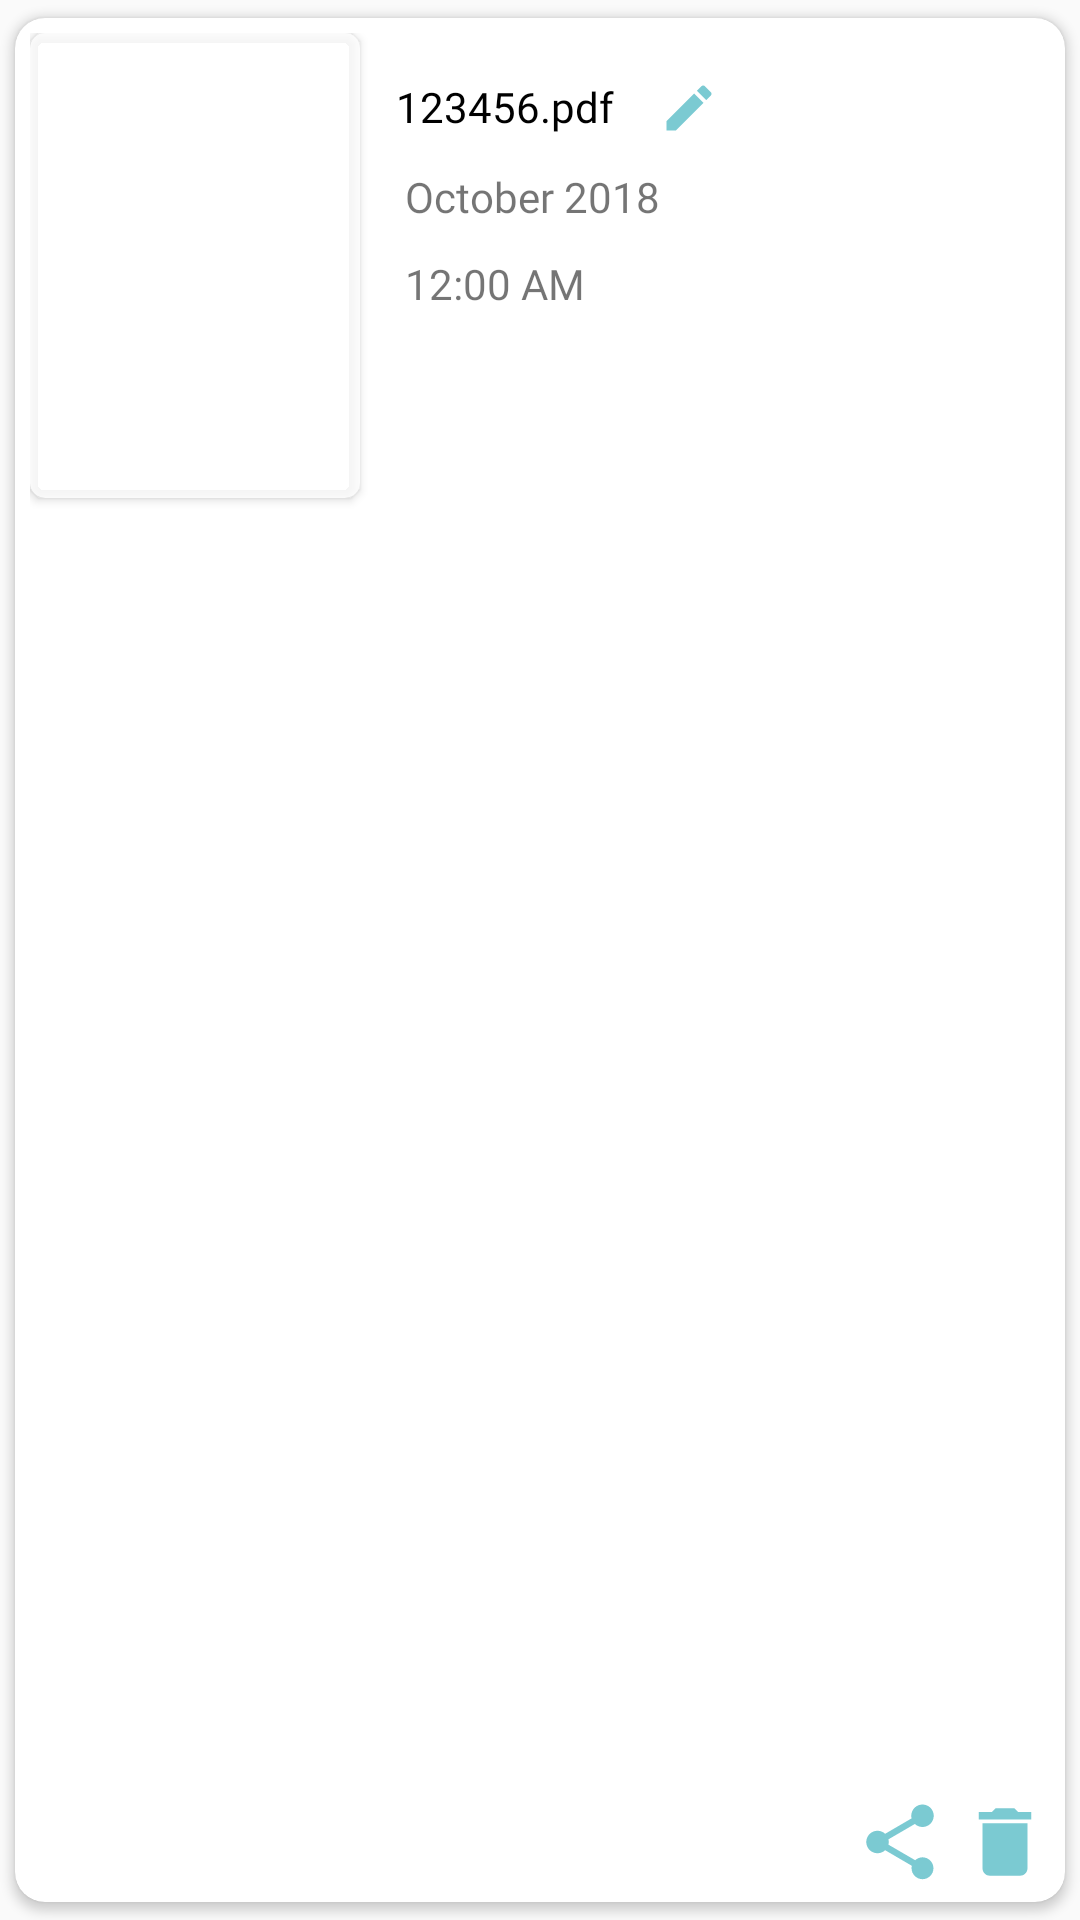

Point at icon controls on the screen. Image size 1080px x 1920px, points as [x,y].
delete: [1005,1842]
edit: [689,108]
share: [900,1842]
